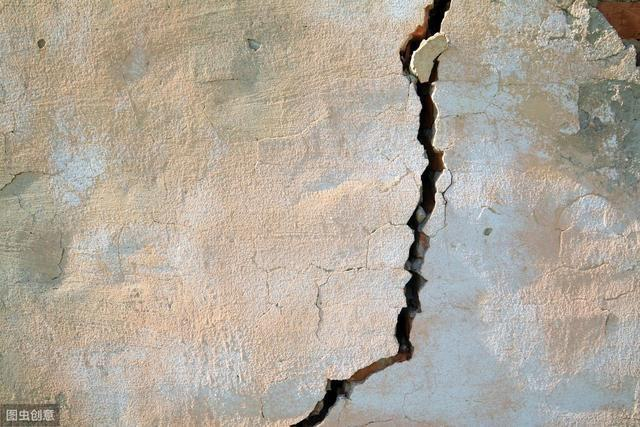Corrosion: (595, 1, 640, 67)
Crack: (288, 1, 452, 427)
